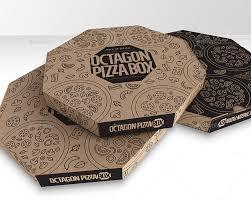Cardboard: (3, 19, 251, 196)
